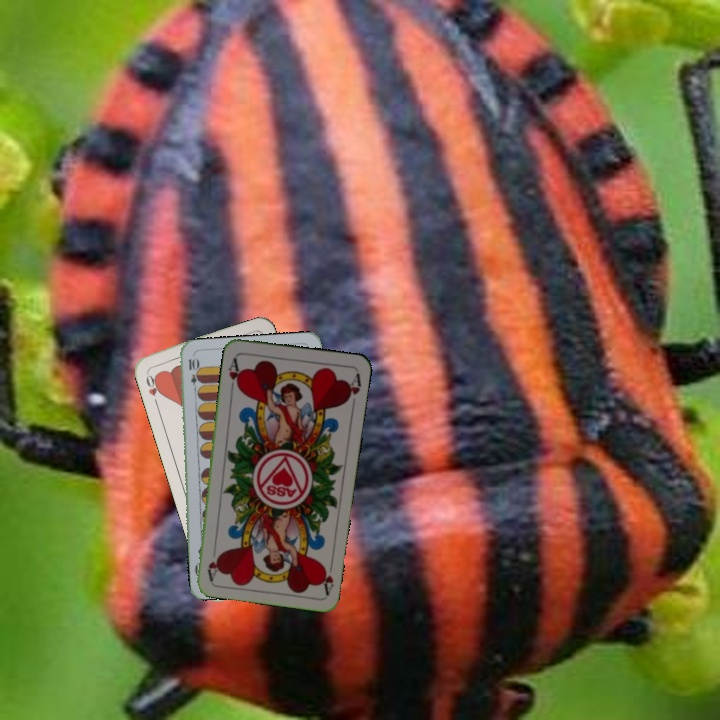E10: (184, 354, 200, 395)
HA: (224, 354, 244, 393), (317, 556, 336, 597)
HO: (142, 367, 164, 407)
